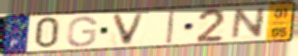0: (33, 15, 63, 51)
2: (195, 7, 227, 44)
G: (65, 15, 99, 49)
I: (165, 10, 177, 45)
N: (229, 6, 268, 41)
V: (110, 11, 147, 47)
